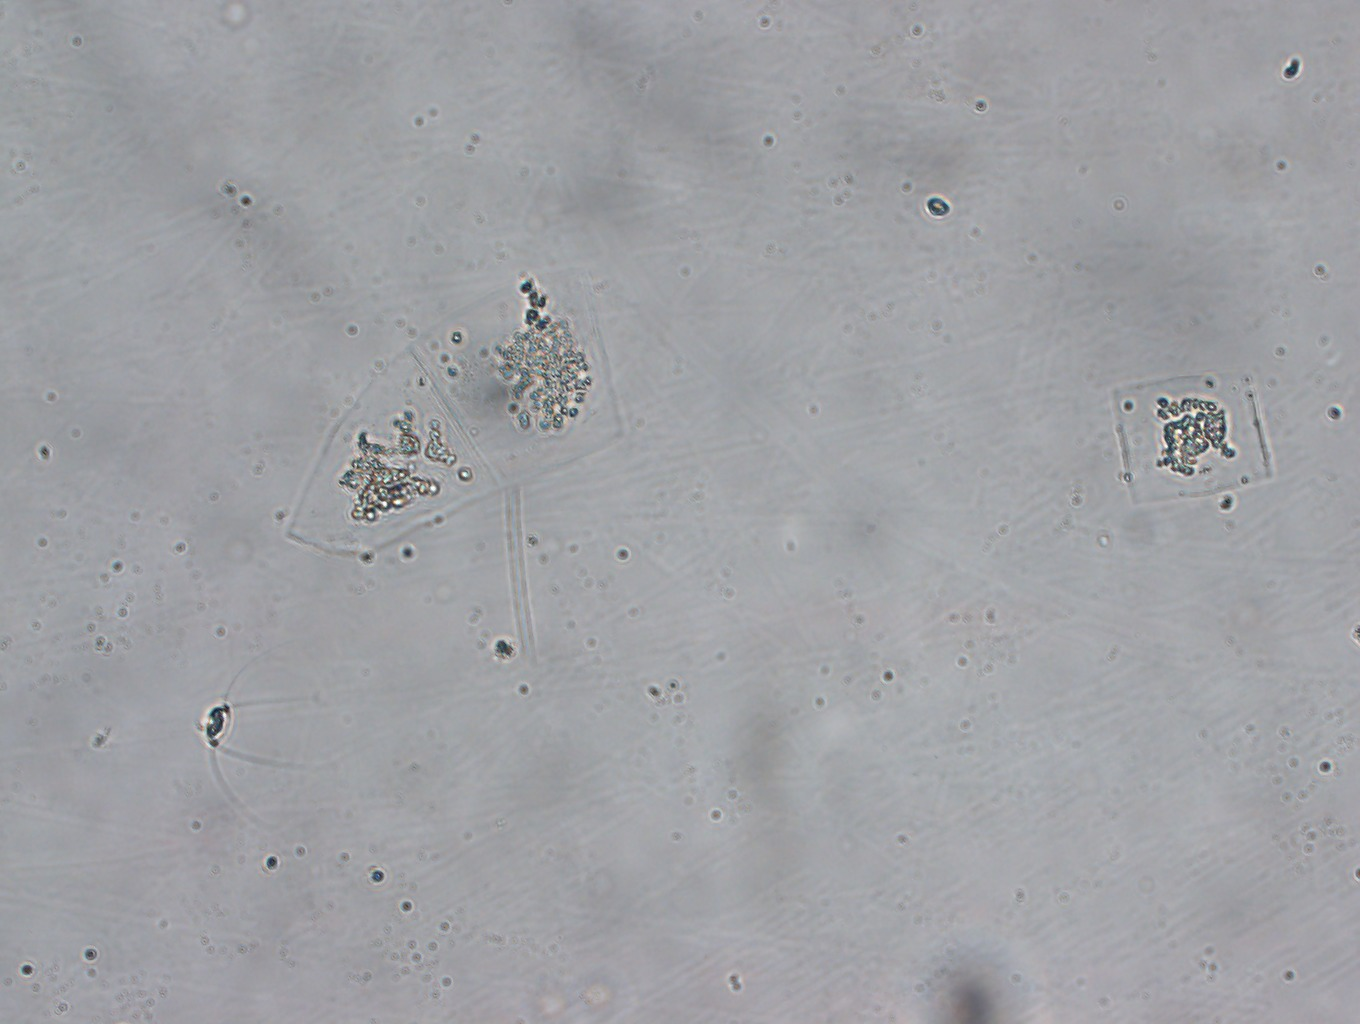chaetoceros: (203, 655, 342, 822)
helicotheca: (284, 264, 622, 560), (1110, 373, 1273, 506)
